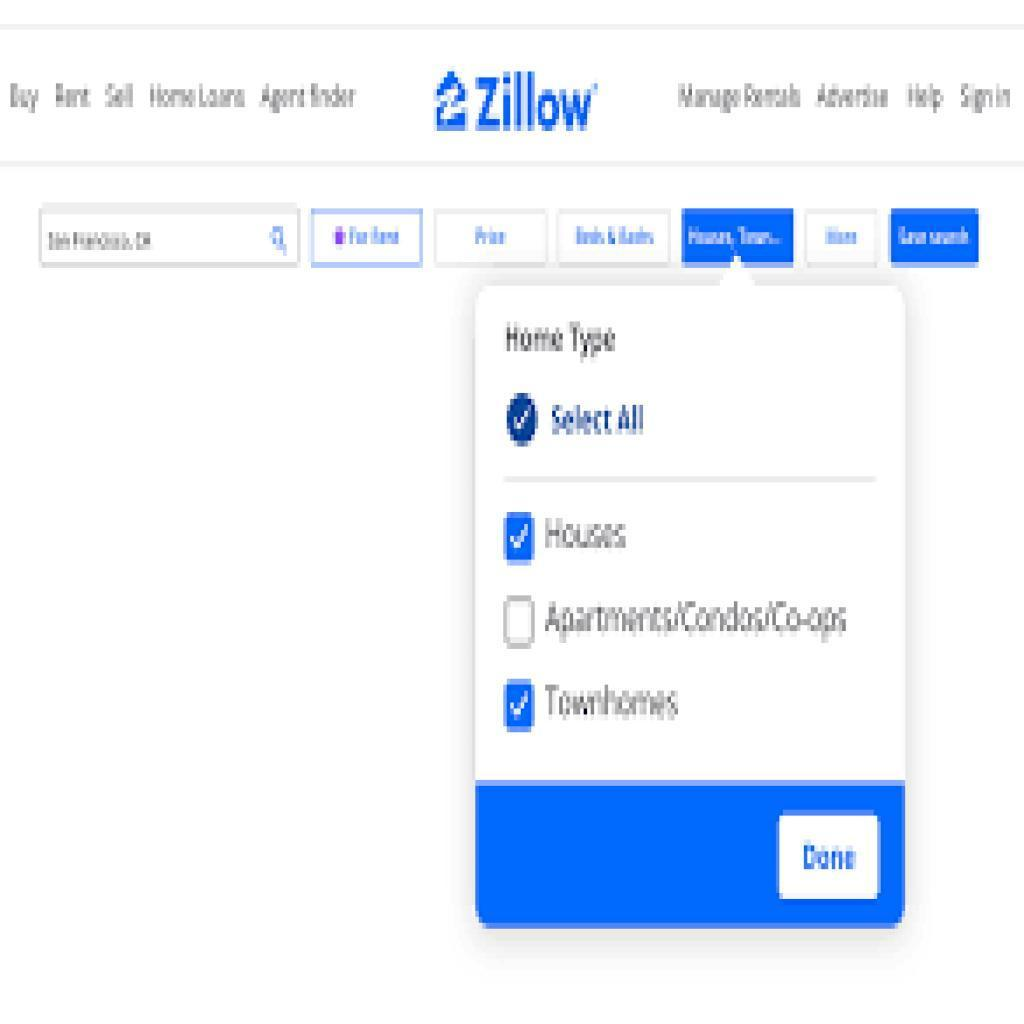button: (780, 815, 880, 899), (435, 208, 550, 270), (681, 207, 796, 268), (312, 208, 426, 269), (559, 209, 672, 265), (892, 206, 979, 265), (806, 209, 880, 268)
checkbox: (503, 595, 539, 650), (505, 512, 537, 565), (508, 394, 540, 447), (504, 681, 536, 733)
icon: (264, 219, 297, 258)
input: (41, 206, 302, 268)
label: (546, 601, 850, 645), (544, 681, 697, 730), (551, 402, 649, 440), (546, 514, 632, 551)
